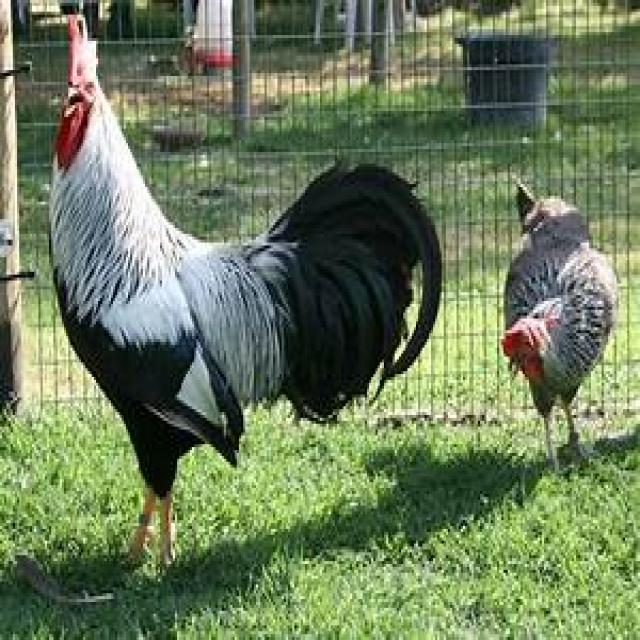animal: (44, 9, 442, 573), (499, 178, 619, 474)
